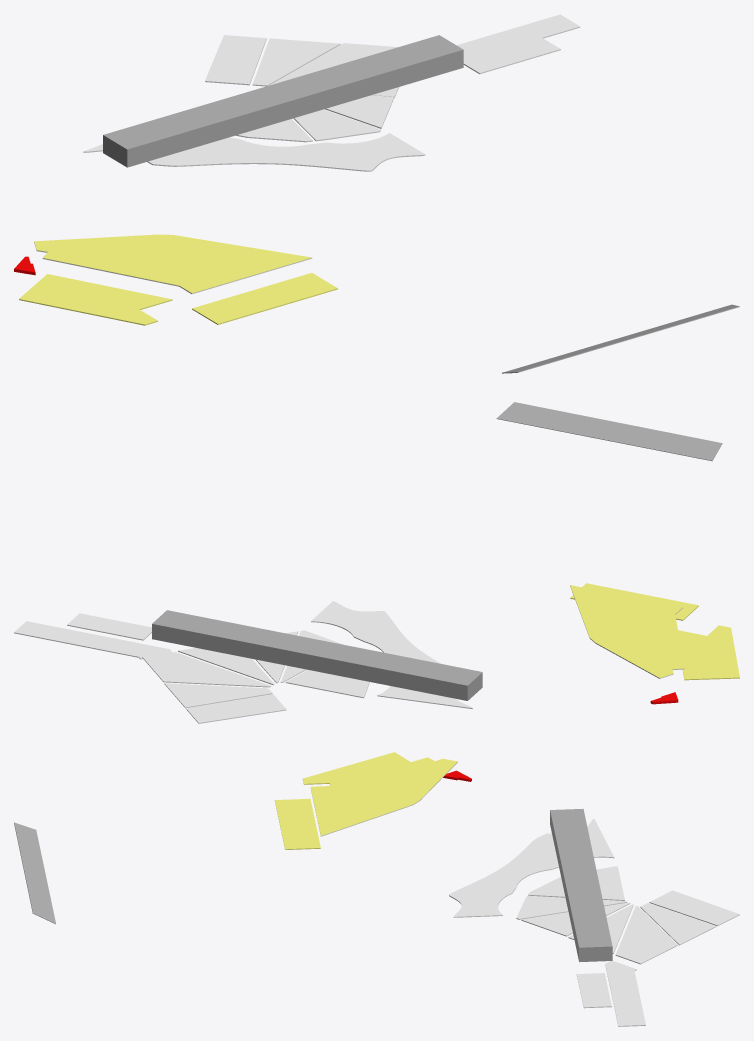
The model's file is 1253_AR_AFP_BASE BUILDING_MASTER_malfredMXUZG_1AdpURx9v8fxrfh$v1S7UQ-LEVEL GROUND (EX STATION ENTRY)_IfcCovering.dae.
The picture shows the model from 3 angles, top to bottom: view 1: azimuth 30°, elevation 25°; view 2: azimuth 150°, elevation 25°; view 3: azimuth 270°, elevation 25°; orthographic projection. The views are drawn at different scales.
Parts seen in each view (by area): view 1: 0L1$p04PHEJ99LPQ1K4ucR, 0o3_SuHvX5GPbFI_kn_KrL, 1RO4Etll1D1gsfu89x2j1d, 0o3_SuHvX5GPbFI_kn_KqB, 0o3_SuHvX5GPbFI_kn_KpB, 1qOi7lo9r5r9xgRwT5__MX, 0PNtJ4kADCHeGuftntVDnU, 0E$ql39Mr69hl9HrGFuwqz, 2DgQanZr52fAjp22vRSwII, 1qOi7lo9r5r9xgRwT5__Pm, 1qOi7lo9r5r9xgRwT5__5d, 1qOi7lo9r5r9xgRwT5__OK (+2 smaller); view 2: 0L1$p04PHEJ99LPQ1K4ucR, 0o3_SuHvX5GPbFI_kn_KrL, 3YBVcxpyn6OArtWAIMOGn$, 1RO4Etll1D1gsfu89x2j1d, 0o3_SuHvX5GPbFI_kn_KqB, 1qOi7lo9r5r9xgRwT5__5d, 0E$ql39Mr69hl9HrGFuwqz, 1qOi7lo9r5r9xgRwT5__MX, 0PNtJ4kADCHeGuftntVDnU, 1qOi7lo9r5r9xgRwT5__6I, 1qOi7lo9r5r9xgRwT5__48, 2DgQanZr52fAjp22vRSwII (+1 smaller); view 3: 0o3_SuHvX5GPbFI_kn_KrL, 0L1$p04PHEJ99LPQ1K4ucR, 1RO4Etll1D1gsfu89x2j1d, 3YBVcxpyn6OArtWAIMOGn$, 1qOi7lo9r5r9xgRwT5__5d, 0o3_SuHvX5GPbFI_kn_KpB, 0E$ql39Mr69hl9HrGFuwqz, 1qOi7lo9r5r9xgRwT5__MX, 0o3_SuHvX5GPbFI_kn_KqB, 0PNtJ4kADCHeGuftntVDnU, 1qOi7lo9r5r9xgRwT5__6I, 1qOi7lo9r5r9xgRwT5__Pm (+3 smaller).
Boxes of the visible parts, <box> form: 0L1$p04PHEJ99LPQ1K4ucR: <box>103,35,463,167</box>; 0o3_SuHvX5GPbFI_kn_KrL: <box>34,234,312,294</box>; 1RO4Etll1D1gsfu89x2j1d: <box>83,133,425,171</box>; 0o3_SuHvX5GPbFI_kn_KqB: <box>19,274,172,325</box>; 0o3_SuHvX5GPbFI_kn_KpB: <box>192,273,337,324</box>; 1qOi7lo9r5r9xgRwT5__MX: <box>205,35,266,85</box>; 0PNtJ4kADCHeGuftntVDnU: <box>252,38,340,86</box>; 0E$ql39Mr69hl9HrGFuwqz: <box>457,14,580,59</box>; 2DgQanZr52fAjp22vRSwII: <box>463,37,560,74</box>; 1qOi7lo9r5r9xgRwT5__Pm: <box>293,109,380,141</box>; 1qOi7lo9r5r9xgRwT5__5d: <box>270,43,398,85</box>; 1qOi7lo9r5r9xgRwT5__OK: <box>324,95,394,128</box>; 0L1$p04PHEJ99LPQ1K4ucR: <box>152,610,482,700</box>; 0o3_SuHvX5GPbFI_kn_KrL: <box>570,585,684,678</box>; 3YBVcxpyn6OArtWAIMOGn$: <box>496,402,722,461</box>; 1RO4Etll1D1gsfu89x2j1d: <box>311,601,472,708</box>; 0o3_SuHvX5GPbFI_kn_KqB: <box>678,625,739,680</box>; 1qOi7lo9r5r9xgRwT5__5d: <box>142,652,270,687</box>; 0E$ql39Mr69hl9HrGFuwqz: <box>14,621,171,659</box>; 1qOi7lo9r5r9xgRwT5__MX: <box>186,694,286,723</box>; 0PNtJ4kADCHeGuftntVDnU: <box>164,683,272,708</box>; 1qOi7lo9r5r9xgRwT5__6I: <box>285,670,369,698</box>; 1qOi7lo9r5r9xgRwT5__48: <box>178,648,274,685</box>; 2DgQanZr52fAjp22vRSwII: <box>67,613,151,640</box>; 0o3_SuHvX5GPbFI_kn_KrL: <box>310,757,457,836</box>; 0L1$p04PHEJ99LPQ1K4ucR: <box>550,808,612,962</box>; 1RO4Etll1D1gsfu89x2j1d: <box>449,819,614,917</box>; 3YBVcxpyn6OArtWAIMOGn$: <box>14,822,55,924</box>; 1qOi7lo9r5r9xgRwT5__5d: <box>615,906,677,964</box>; 0o3_SuHvX5GPbFI_kn_KpB: <box>274,798,320,849</box>; 0E$ql39Mr69hl9HrGFuwqz: <box>605,961,645,1026</box>; 1qOi7lo9r5r9xgRwT5__MX: <box>649,890,739,926</box>; 0o3_SuHvX5GPbFI_kn_KqB: <box>302,752,410,785</box>; 0PNtJ4kADCHeGuftntVDnU: <box>640,903,716,945</box>; 1qOi7lo9r5r9xgRwT5__6I: <box>528,866,624,900</box>; 1qOi7lo9r5r9xgRwT5__Pm: <box>516,895,627,919</box>.
Size of the model in its own units: 43.74 by 49.23 by 2.86.
